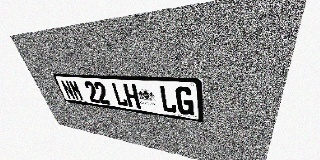2: (83, 81, 100, 103), (93, 82, 110, 104)
G: (175, 86, 194, 116)
H: (123, 83, 141, 109)
L: (158, 85, 177, 113), (111, 83, 129, 107)
M: (68, 80, 84, 101)
N: (60, 80, 76, 100)
